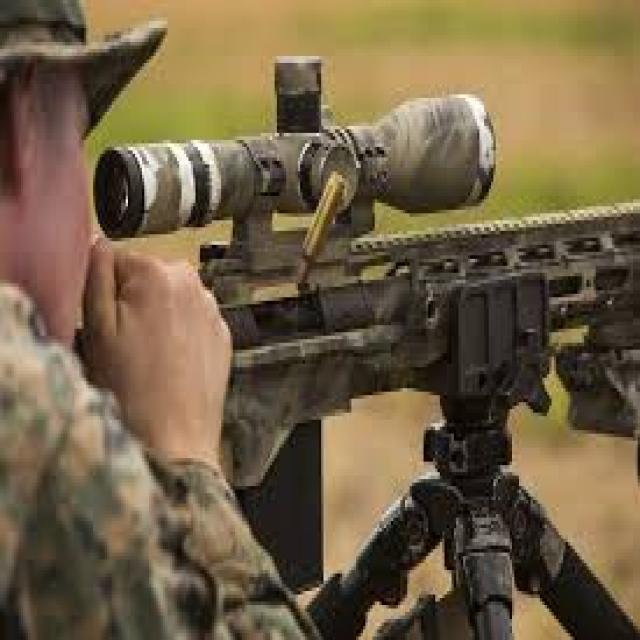soldier: (1, 8, 636, 640)
